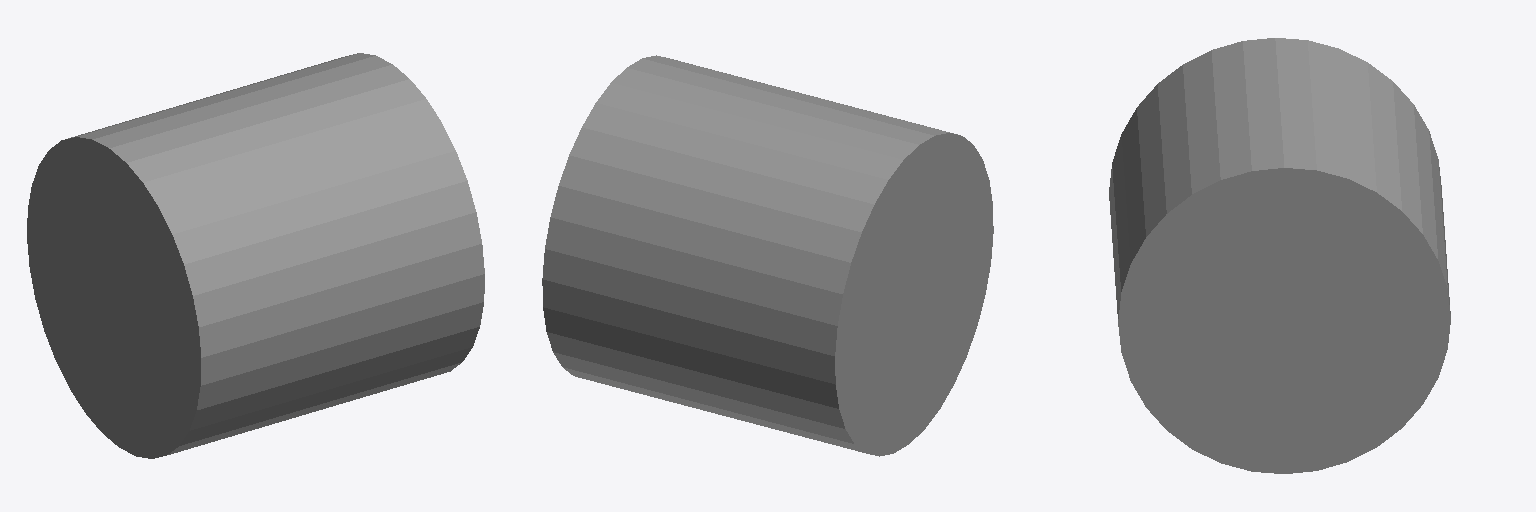
The model's file is wheelBackRight.obj.
3 views of the same model, side by side, from view 1: azimuth 30°, elevation 25°; view 2: azimuth 150°, elevation 25°; view 3: azimuth 270°, elevation 25° (orthographic).
Parts seen in each view (by area): view 1: Cylinder.003; view 2: Cylinder.003; view 3: Cylinder.003.
Boxes of the visible parts, box(x1,y1,x2,y2) form: Cylinder.003: box(27, 53, 484, 458); Cylinder.003: box(542, 55, 993, 456); Cylinder.003: box(1109, 38, 1450, 473).
Size of the model in its own units: 1.36 by 1.35 by 1.34.